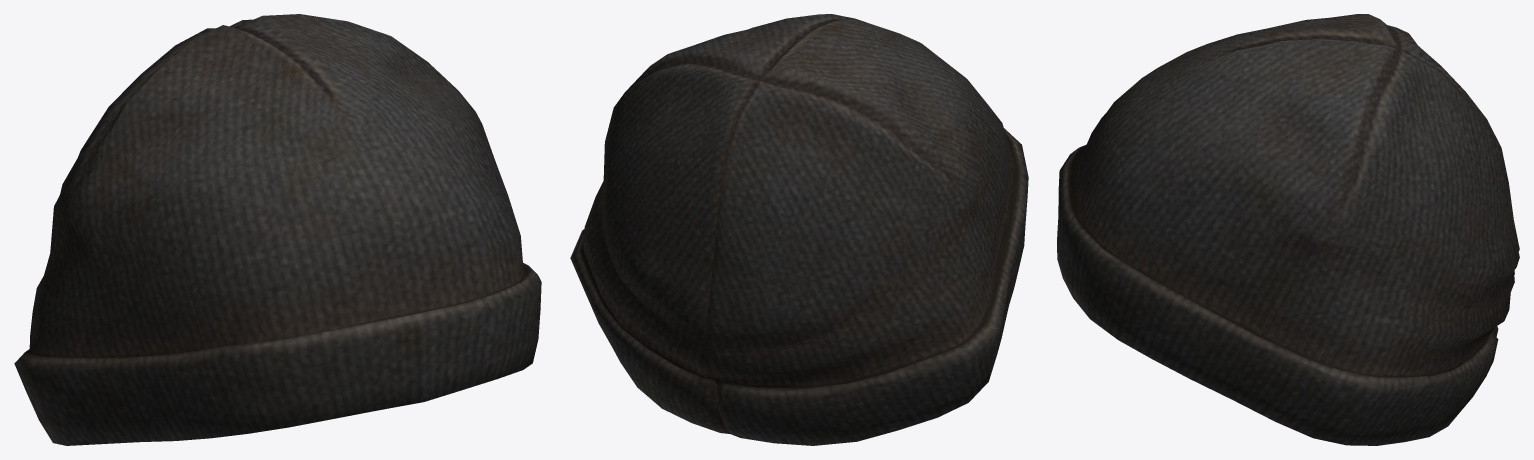
The picture shows the model from 3 angles, left to right: view 1: azimuth 30°, elevation 25°; view 2: azimuth 150°, elevation 25°; view 3: azimuth 270°, elevation 25°; orthographic projection. The views are drawn at different scales.
Parts seen in each view (by area): view 1: ahat_02; view 2: ahat_02; view 3: ahat_02.
Boxes of the visible parts, bbox=[...] form: ahat_02: bbox=[14, 14, 541, 445]; ahat_02: bbox=[570, 14, 1028, 445]; ahat_02: bbox=[1057, 14, 1519, 445].
Bounding box in the file's own units: 61.99 × 49.46 × 57.92.
1 material, 1 textured.
